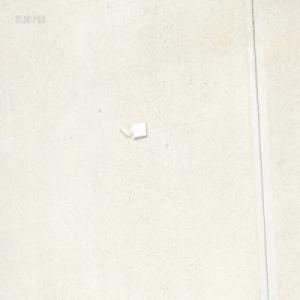LuggageTag: (116, 121, 147, 139)
